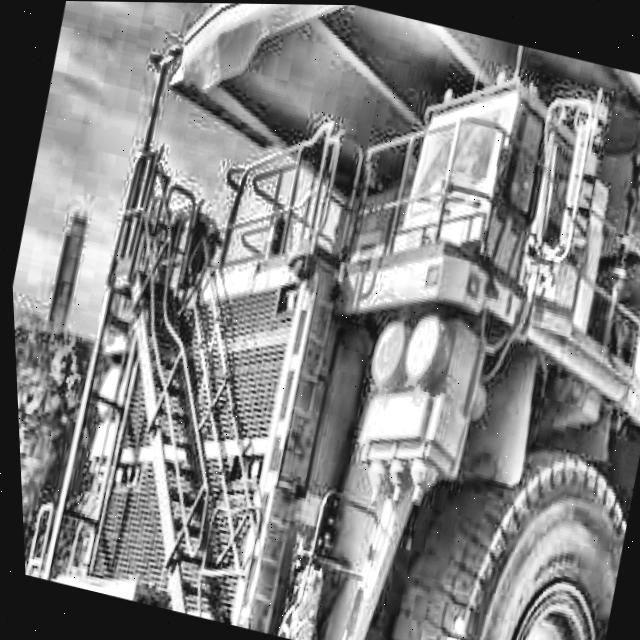dump_truck: (28, 0, 640, 640)
